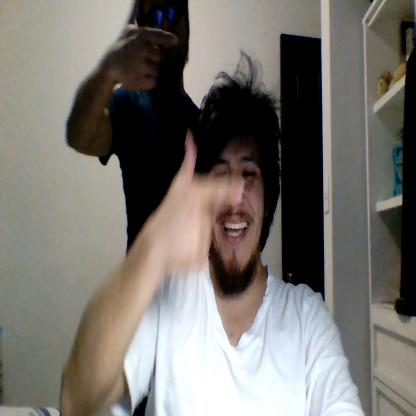G: (166, 130, 243, 271), (117, 0, 178, 90)
